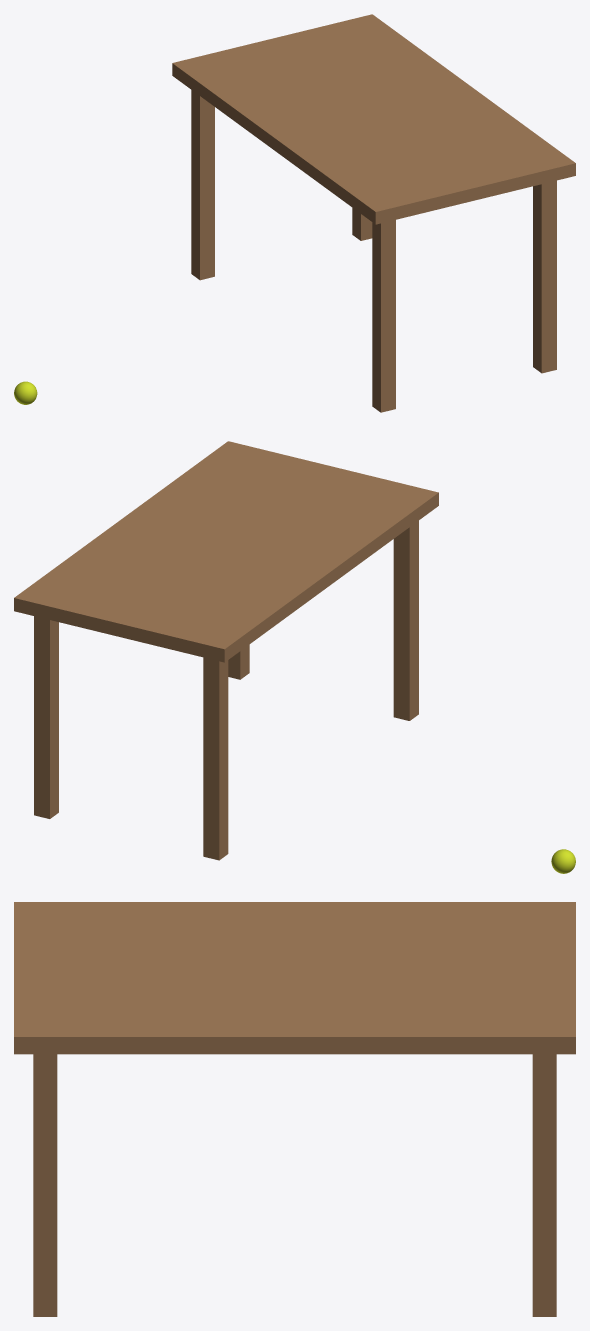
Rendered from g1_17_undertable_props.glb.
The picture shows the model from 3 angles, top to bottom: view 1: azimuth 30°, elevation 25°; view 2: azimuth 150°, elevation 25°; view 3: azimuth 270°, elevation 25°; orthographic projection. The views are drawn at different scales.
Parts seen in each view (by area): view 1: s000, s001, s003, s002, s004; view 2: s000, s002, s004, s001, s003; view 3: s000, s003, s004.
Boxes of the visible parts, x1,y1,x2,y2 form: s000: (172,14,575,224); s001: (372,220,395,412); s003: (533,180,556,373); s002: (191,90,214,280); s004: (352,208,372,240); s000: (14,441,438,662); s002: (203,657,228,860); s004: (34,616,58,818); s001: (393,520,418,720); s003: (228,644,249,679); s000: (14,902,575,1054); s003: (33,1054,57,1316); s004: (532,1054,556,1316).
Bounding box in the file's own units: 1.47 × 0.6938 × 1.17.
